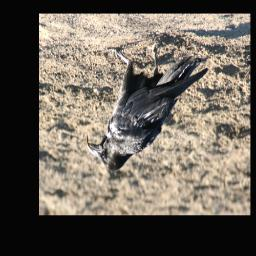Crow: (86, 36, 209, 173)
